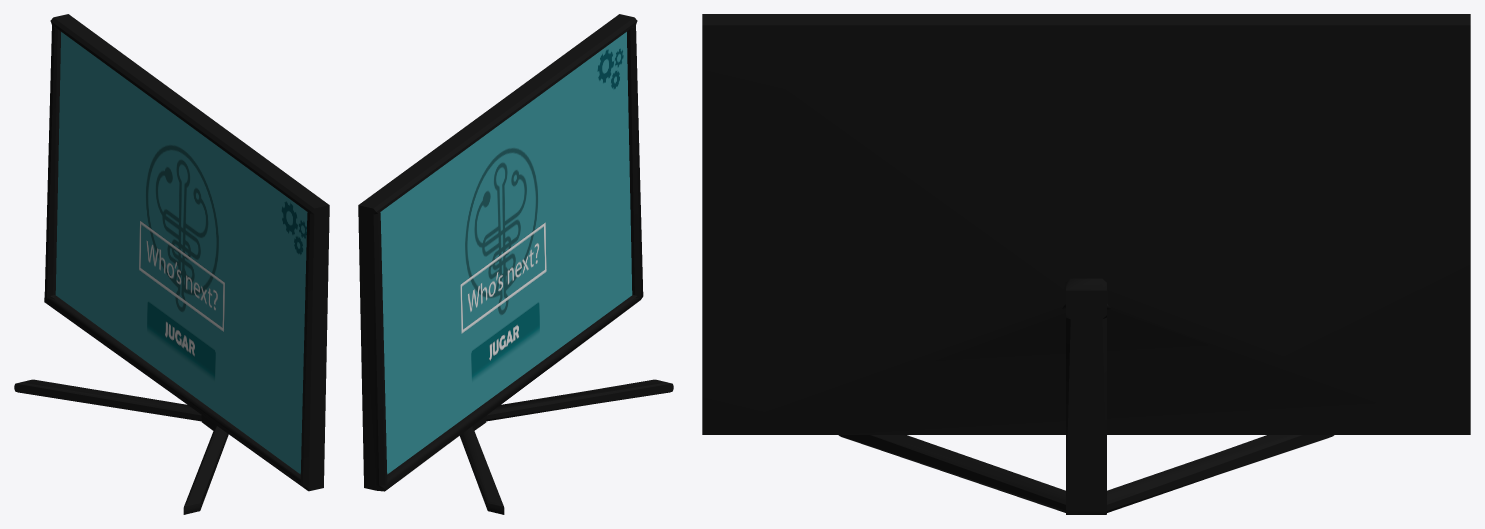
File: monitor.FBX
3 views of the same model, side by side, from view 1: azimuth 30°, elevation 25°; view 2: azimuth 150°, elevation 25°; view 3: azimuth 270°, elevation 25° (orthographic). The views are drawn at different scales.
Parts seen in each view (by area): view 1: Object, Box002; view 2: Object, Box002; view 3: Box002.
Boxes of the visible parts, left/top/right/bottom form: Object: left=55, top=32, right=307, bottom=474; Box002: left=14, top=14, right=329, bottom=514; Object: left=380, top=32, right=632, bottom=474; Box002: left=358, top=14, right=673, bottom=514; Box002: left=702, top=14, right=1470, bottom=514.
Size of the model in its own units: 13.86 by 33.48 by 49.41.
